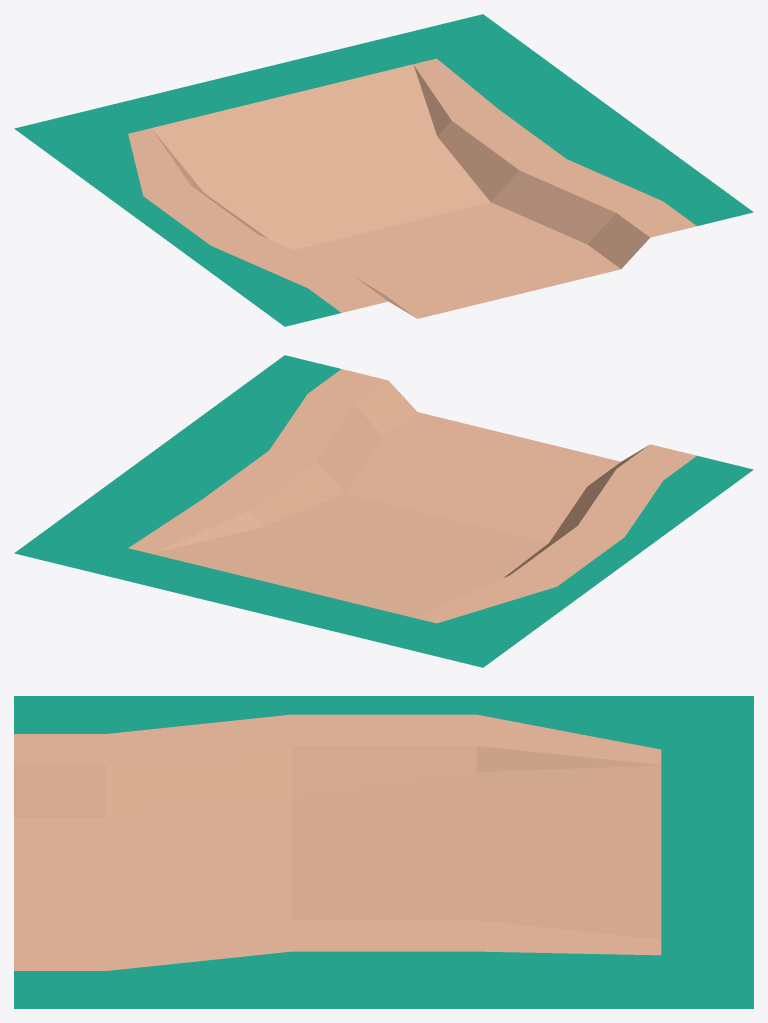
The model's file is ground_pathEnd.glb.
3 renders of one model, top to bottom at view 1: azimuth 30°, elevation 25°; view 2: azimuth 150°, elevation 25°; view 3: azimuth 270°, elevation 25°, orthographic. The views are drawn at different scales.
Visible parts, largest first — view 1: ground_pathEnd; view 2: ground_pathEnd; view 3: ground_pathEnd.
Boxes of the visible parts, x1,y1,x2,y2 form: ground_pathEnd: [14, 14, 753, 326]; ground_pathEnd: [14, 355, 753, 667]; ground_pathEnd: [14, 696, 753, 1008].
Bounding box in the file's own units: 1.2 × 0.06 × 1.2.
